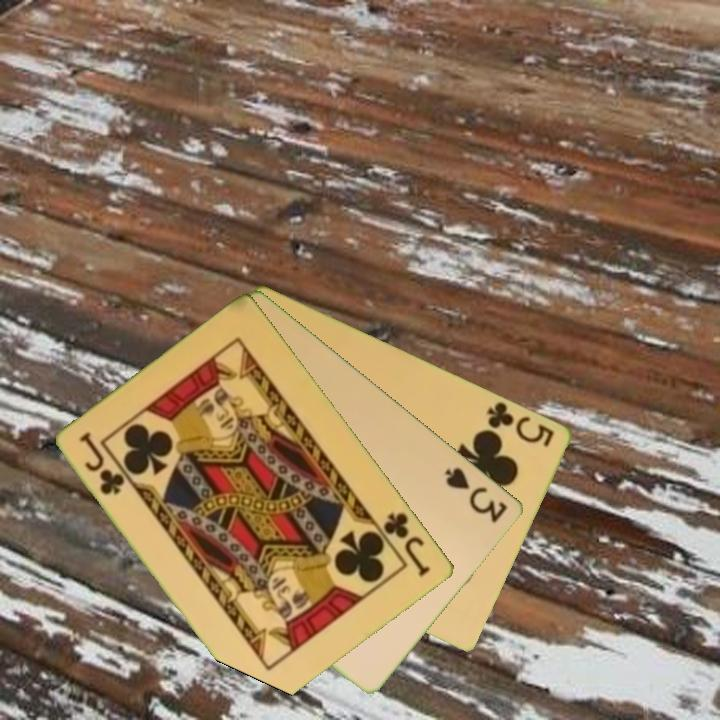3s: (441, 463, 511, 526)
5c: (483, 398, 558, 450)
Jc: (380, 509, 434, 580), (76, 428, 129, 499)
